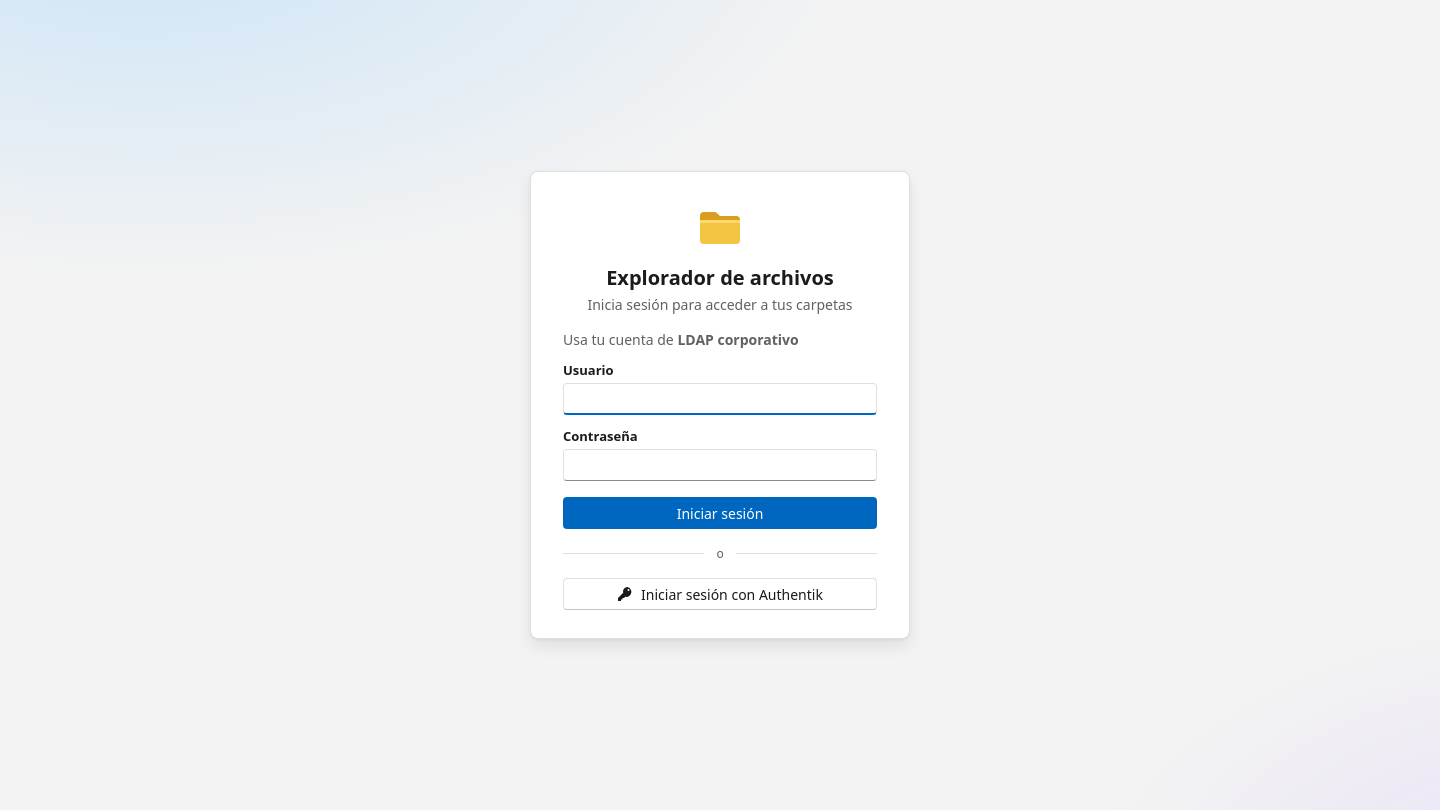
it: LoginPage › validates empty fields locally
This screenshot has width=1440, height=810.
Click the button "Iniciar sesión": (720, 513) [563,497,877,529]
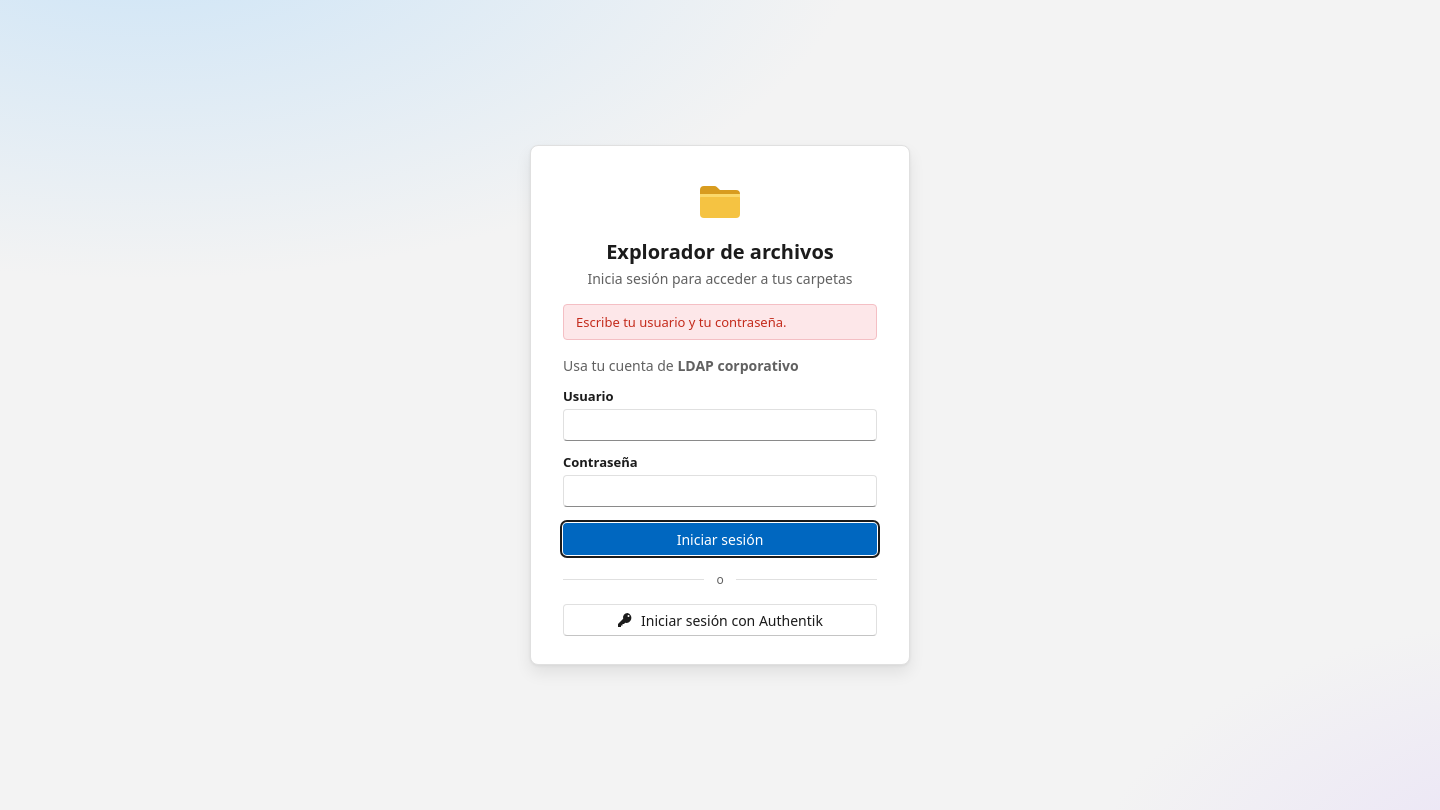
Expected: the message reads "Escribe tu usuario y tu contraseña.", [576,313,786,331]
